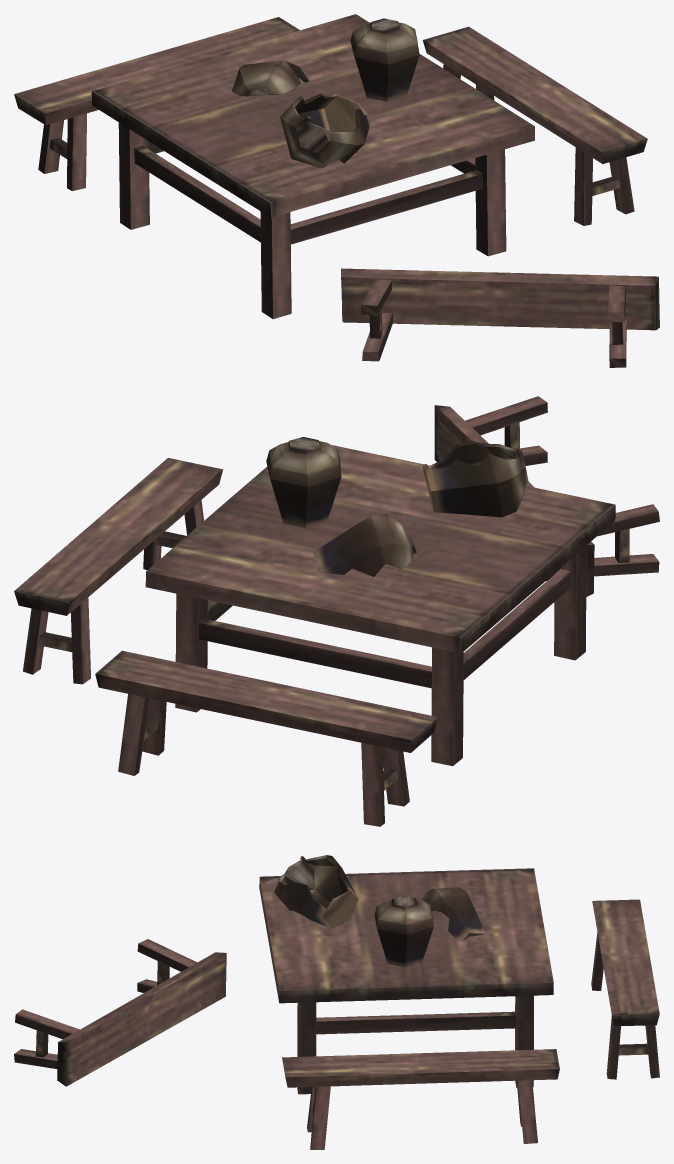
The model's file is ZaWu_All_ZhuoZi.FBX.
3 renders of one model, top to bottom at view 1: azimuth 30°, elevation 25°; view 2: azimuth 150°, elevation 25°; view 3: azimuth 270°, elevation 25°, orthographic. The views are drawn at different scales.
Visible parts, largest first — view 1: ZaWu_All_ZhuoZi; view 2: ZaWu_All_ZhuoZi; view 3: ZaWu_All_ZhuoZi.
Boxes of the visible parts, left/top/right/bottom form: ZaWu_All_ZhuoZi: left=14, top=14, right=659, bottom=367; ZaWu_All_ZhuoZi: left=14, top=396, right=659, bottom=826; ZaWu_All_ZhuoZi: left=14, top=855, right=659, bottom=1149.
Bounding box in the file's own units: 293 × 129 × 444.
